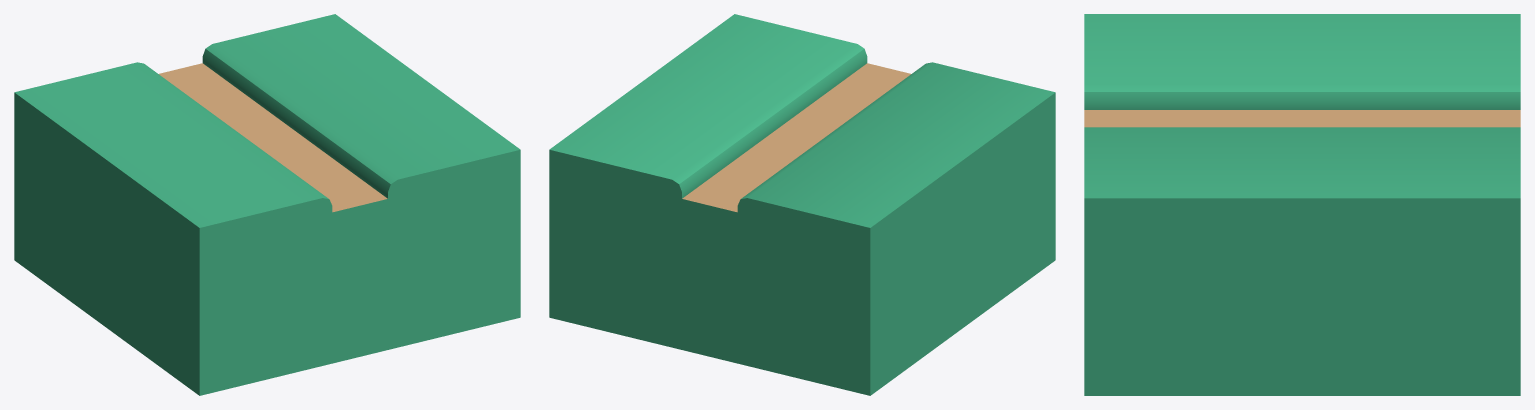
Rendered from kaykit-square-forest-roadb.glb.
3 renders of one model, left to right at view 1: azimuth 30°, elevation 25°; view 2: azimuth 150°, elevation 25°; view 3: azimuth 270°, elevation 25°, orthographic. The views are drawn at different scales.
Visible parts, largest first — view 1: square_forest_roadB; view 2: square_forest_roadB; view 3: square_forest_roadB.
Boxes of the visible parts, box(x1,y1,x2,y2) form: square_forest_roadB: box(14, 14, 520, 395); square_forest_roadB: box(549, 14, 1055, 395); square_forest_roadB: box(1084, 14, 1520, 395).
Bounding box in the file's own units: 2 × 0.9998 × 2.
